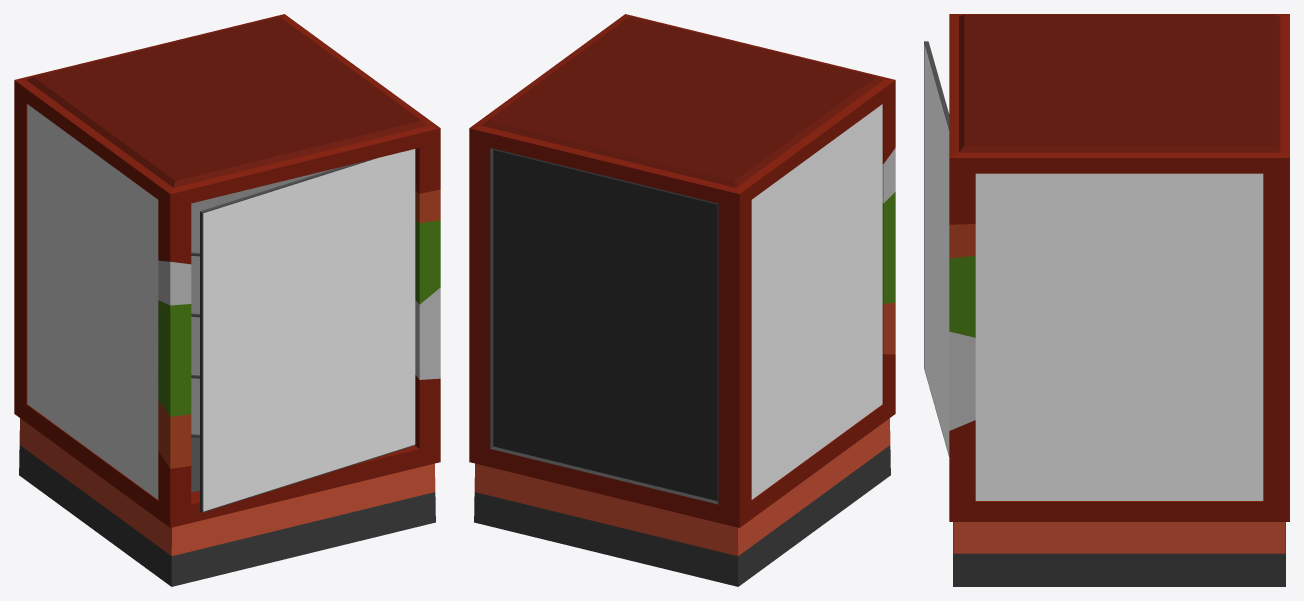
File: Pizza Rack #1.fbx
3 renders of one model, left to right at view 1: azimuth 30°, elevation 25°; view 2: azimuth 150°, elevation 25°; view 3: azimuth 270°, elevation 25°, orthographic. The views are drawn at different scales.
Visible parts, largest first — view 1: Pizza Rack #1; view 2: Pizza Rack #1; view 3: Pizza Rack #1.
Boxes of the visible parts, x1,y1,x2,y2 form: Pizza Rack #1: (14, 14, 440, 586); Pizza Rack #1: (469, 14, 895, 586); Pizza Rack #1: (924, 14, 1289, 586).
Size of the model in its own units: 80.84 by 114 by 86.79.
2 materials, 1 textured.
